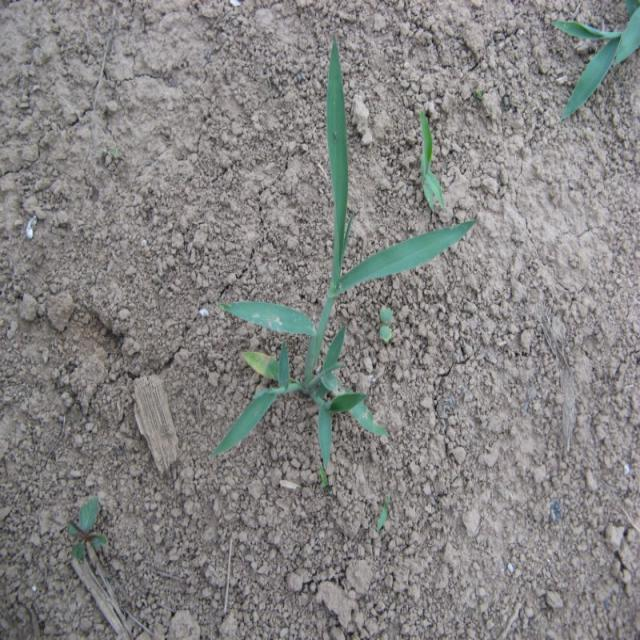bg: (221, 36, 477, 473)
